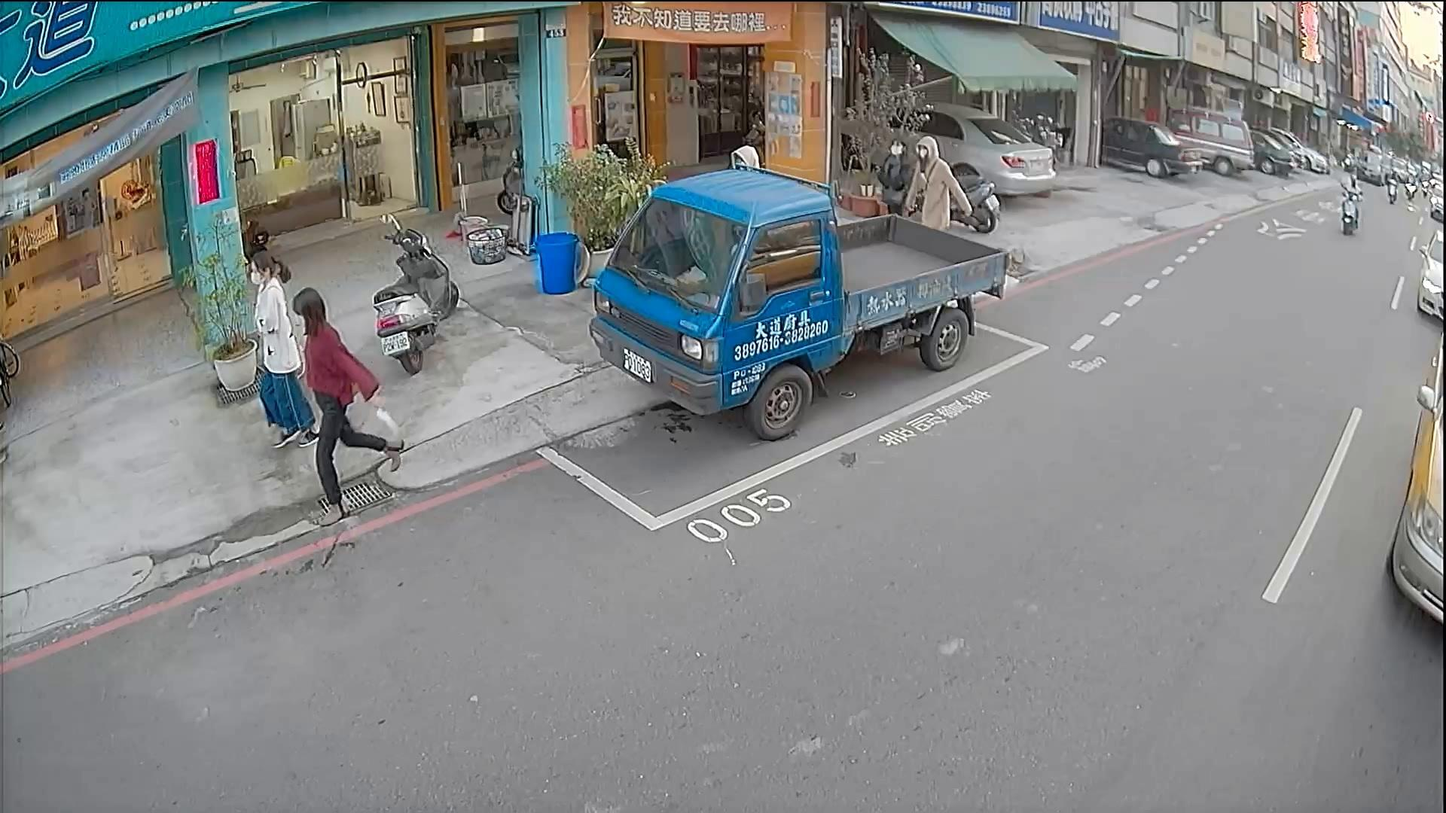person: (285, 282, 409, 529), (244, 245, 319, 449), (896, 136, 973, 231), (874, 133, 916, 215), (722, 132, 764, 175), (1342, 177, 1362, 196)
